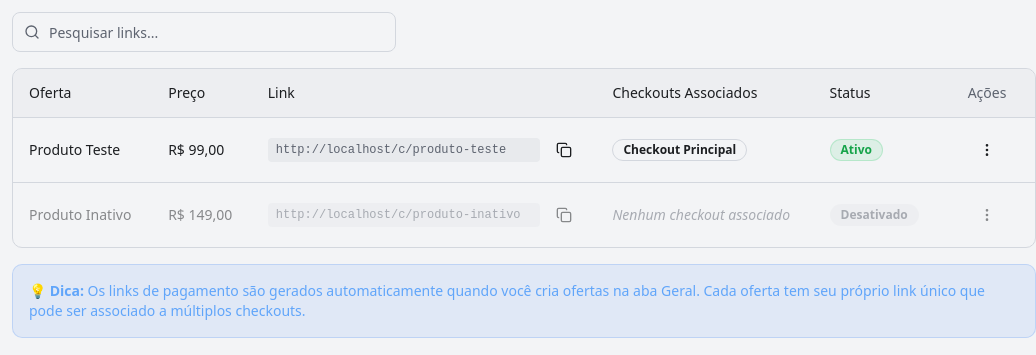
LinksTable › Search Functionality › filters links by offer name
Type "Teste" into the field with placeholder "Pesquisar links..." at (204, 32), box [12,12,396,52]
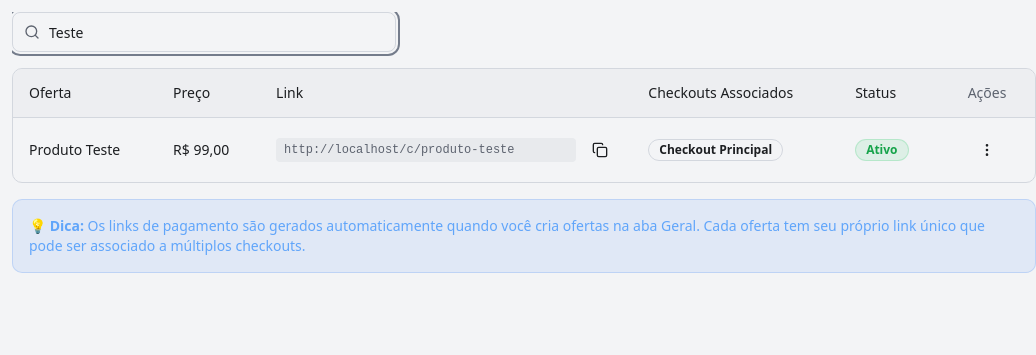
Expected: the text "Produto Teste" is shown, [13,117,157,182]
Result: the text "Produto Inativo" is gone
